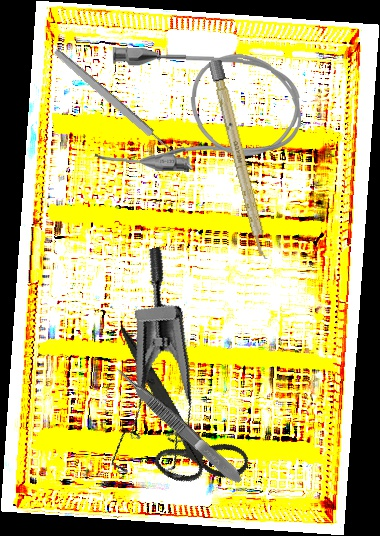Cannula: (94, 46, 304, 176)
Iris Scissors: (72, 325, 279, 506)
Scalpel Handle: (208, 59, 271, 262)
Speculum: (54, 245, 229, 496)
Surgical Spoon: (51, 46, 197, 175)
Tissue Forceps: (112, 362, 246, 488)
